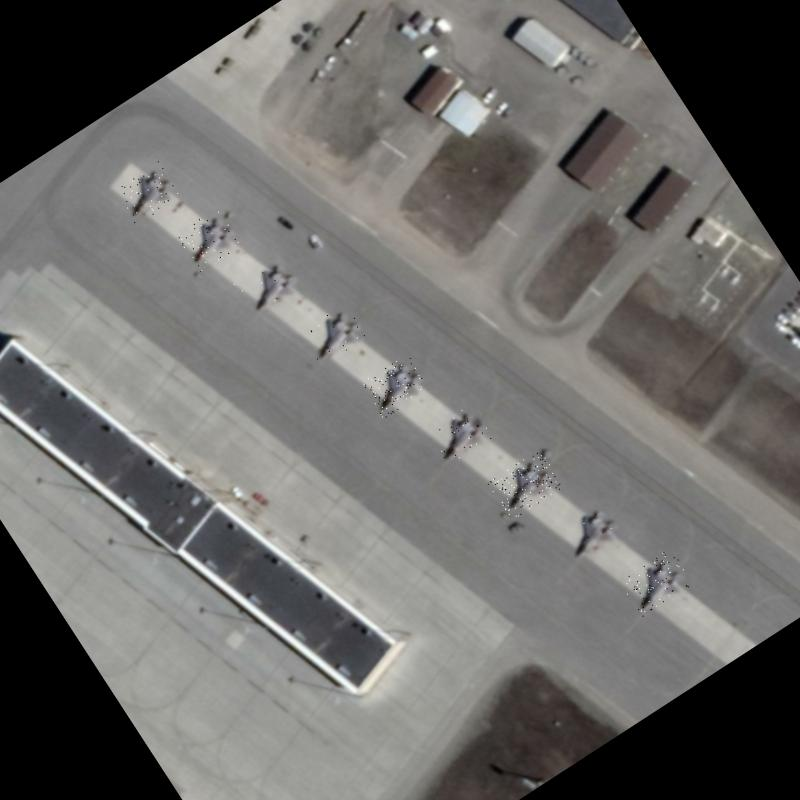A15: (550, 497, 627, 572), (488, 448, 564, 520), (234, 250, 309, 320), (619, 547, 694, 617), (297, 302, 370, 370), (360, 352, 430, 420), (112, 161, 182, 226), (176, 206, 244, 272), (426, 401, 495, 466)
